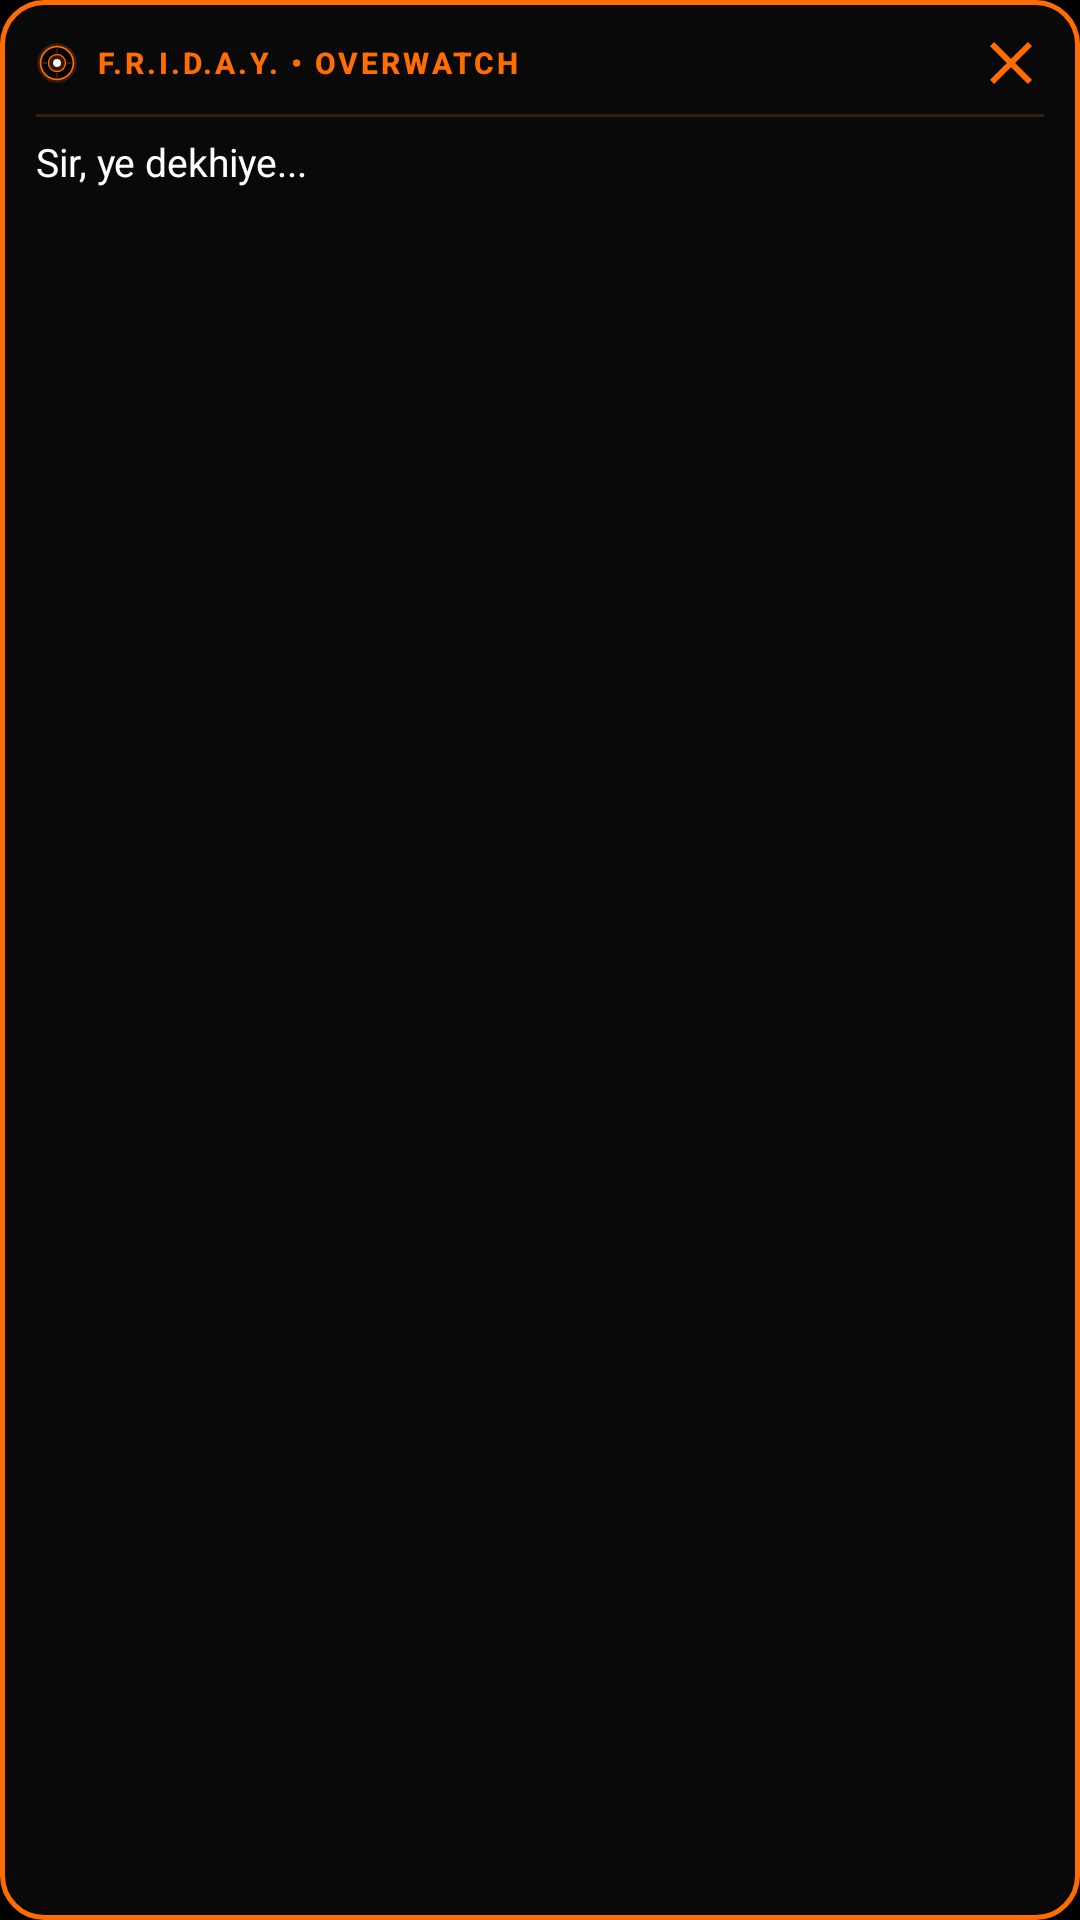

Icon bounding boxes for this 1080*1920 phone screenshot, format region(x1, y1, x2, y2):
Dismiss: region(990, 42, 1032, 84)
EDITH Core: region(37, 43, 77, 83)
